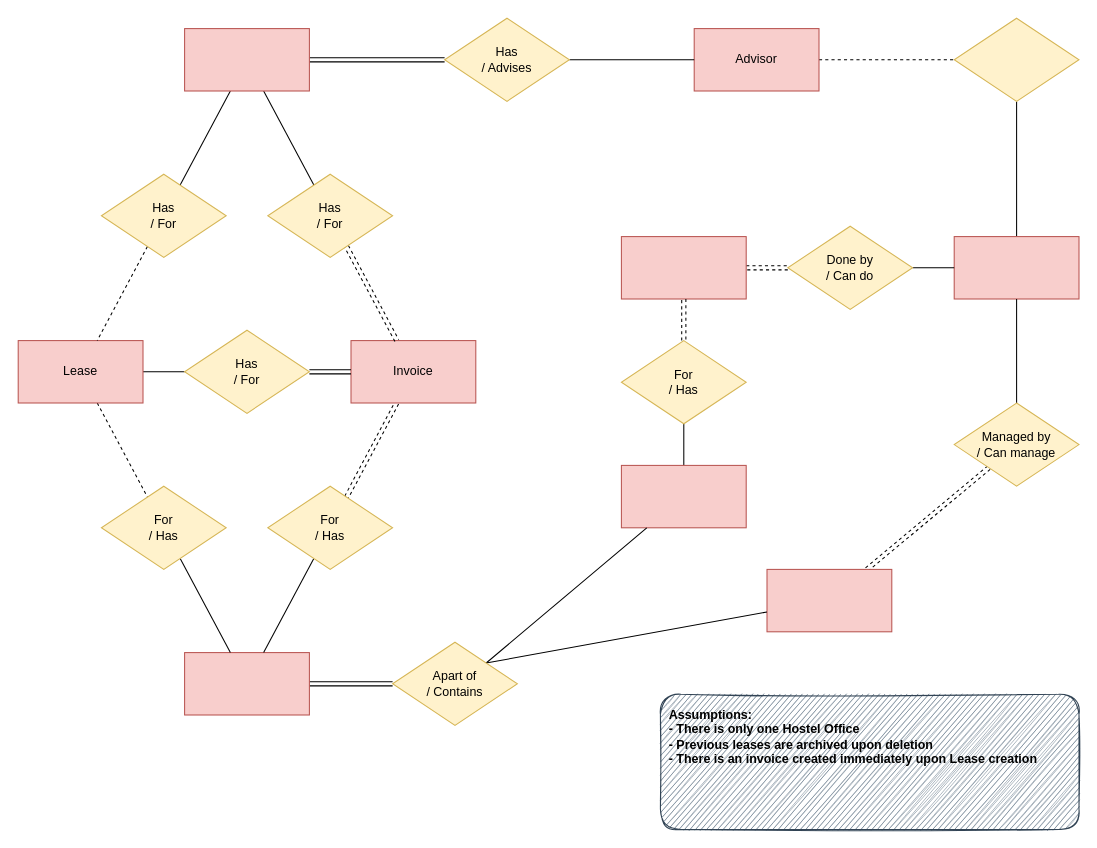
The diagram is 1097 pixels wide and 848 high, and some of its shapes have lost their labels. Each missing label, with the centre of its shape:
"Is a / Can be a" goes at point (1016, 59).
"Residence Hall" goes at point (829, 600).
"Room" goes at point (246, 683).
"Staff" goes at point (1016, 267).
"Student" goes at point (246, 59).
"Student Flat" goes at point (683, 496).
"Student Flat Inspection" goes at point (683, 267).
